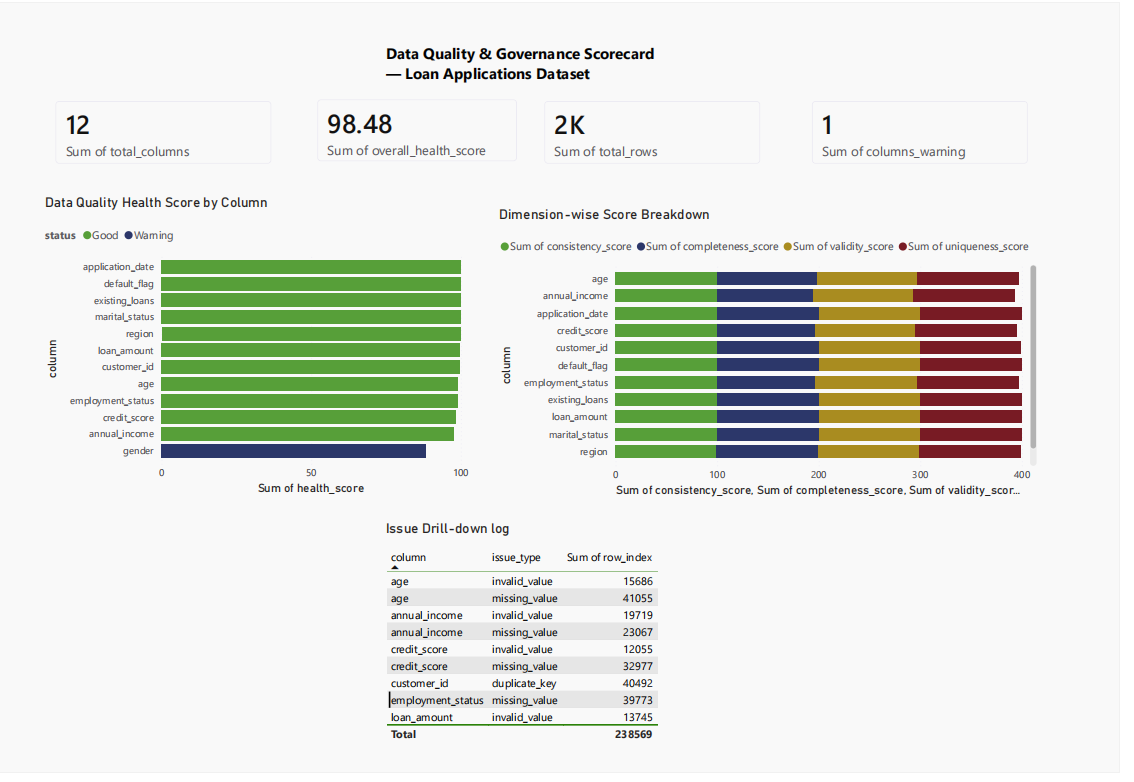

The dashboard page shown, as its layout file describes it:
{"tool":"powerbi","page":{"name":"Page 1","canvas":[1333,900],"ordinal":0},"visuals":[{"type":"cardVisual","fields":{"Data":["Sum(overall_summary.overall_health_score)"]},"box":[352.5,77.5,280,110],"z":0},{"type":"cardVisual","fields":{"Data":["Sum(overall_summary.total_rows)"]},"box":[632.5,80,300,111.7],"z":1000},{"type":"cardVisual","fields":{"Data":["Sum(overall_summary.total_columns)"]},"box":[30,80,300,111.7],"z":2000},{"type":"cardVisual","fields":{"Data":["Sum(overall_summary.columns_warning)"]},"box":[962.5,80,300,111.7],"z":3000},{"type":"barChart","title":"Data Quality Health Score by Column","fields":{"Category":["column_health_scorecard.column"],"Series":["column_health_scorecard.status"],"Y":["Sum(column_health_scorecard.health_score)"]},"box":[30,212,531.7,375],"z":4000},{"type":"barChart","title":"Dimension-wise Score Breakdown","fields":{"Category":["column_health_scorecard.column"],"Y":["Sum(column_health_scorecard.consistency_score)","Sum(column_health_scorecard.completeness_score)","Sum(column_health_scorecard.validity_score)","Sum(column_health_scorecard.uniqueness_score)"]},"box":[590,226,671.7,363.3],"z":5000},{"type":"tableEx","title":"Issue Drill-down log","fields":{"Values":["issues_log.column","issues_log.issue_type","Sum(issues_log.row_index)"]},"box":[450,614,362.5,285],"z":6000},{"type":"textbox","box":[450,20,346,98],"z":6001}]}

Visuals, with their boxes in screenshot pixels (x1, y1, x2, y2), scaled from the page's 1333x900 canvas onto the 1134x782 screenshot:
cardVisual - Sum(overall_summary.overall_health_score): [300,67,538,163]
cardVisual - Sum(overall_summary.total_rows): [538,70,793,167]
cardVisual - Sum(overall_summary.total_columns): [26,70,281,167]
cardVisual - Sum(overall_summary.columns_warning): [819,70,1074,167]
"Data Quality Health Score by Column" barChart: [26,184,478,510]
"Dimension-wise Score Breakdown" barChart: [502,196,1073,512]
"Issue Drill-down log" tableEx: [383,533,691,781]
textbox: [383,17,677,103]
